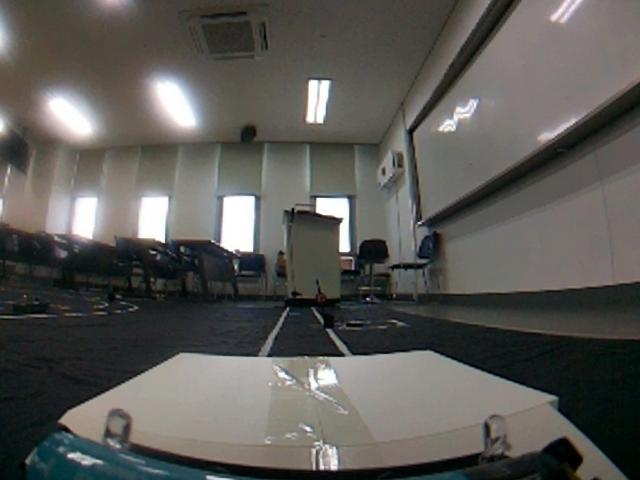hill_up: (2, 313, 640, 480)
